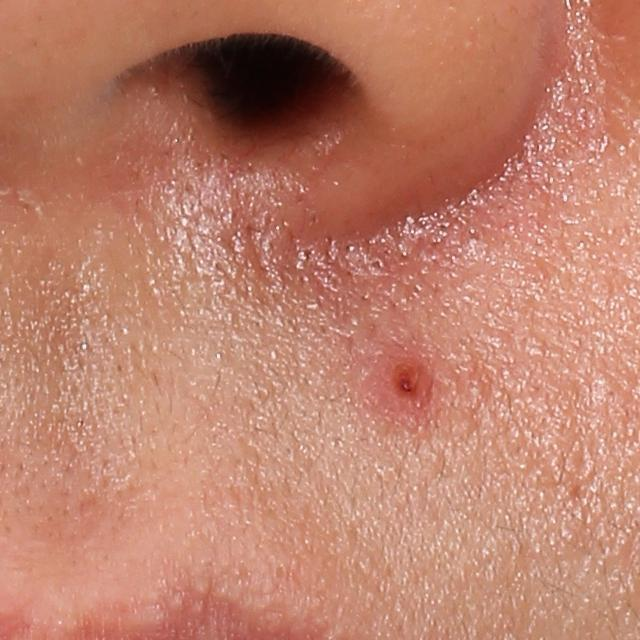papule: (380, 346, 436, 410)
